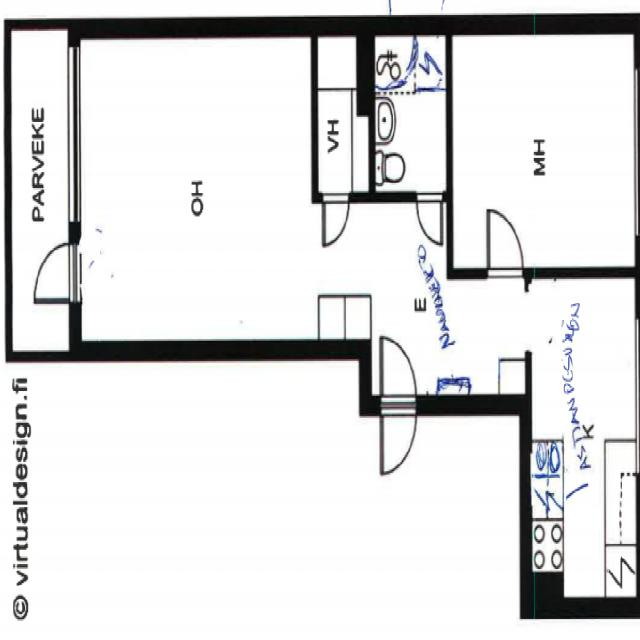door: (32, 241, 81, 301), (381, 336, 415, 416), (381, 394, 415, 474), (488, 210, 523, 276), (416, 192, 442, 242), (323, 191, 348, 240)
